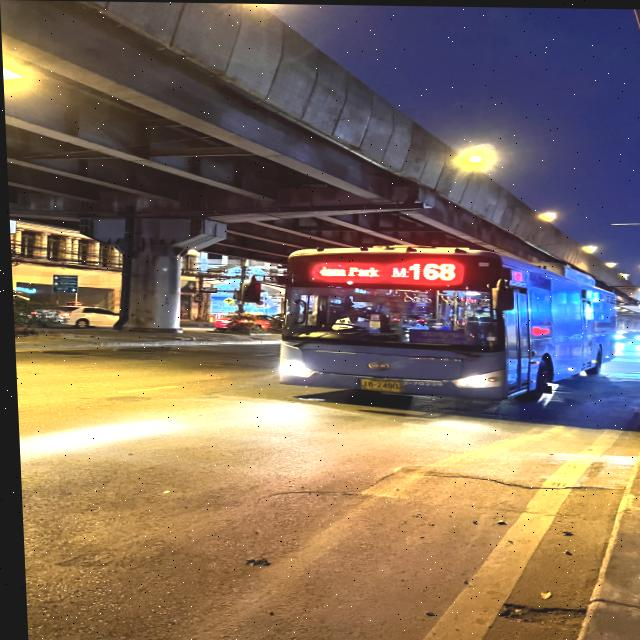BMTA-bus: (265, 238, 618, 405)
Bus-Line-Number: (407, 261, 454, 280)
Destination-Sign-Normal: (406, 328, 463, 343)
